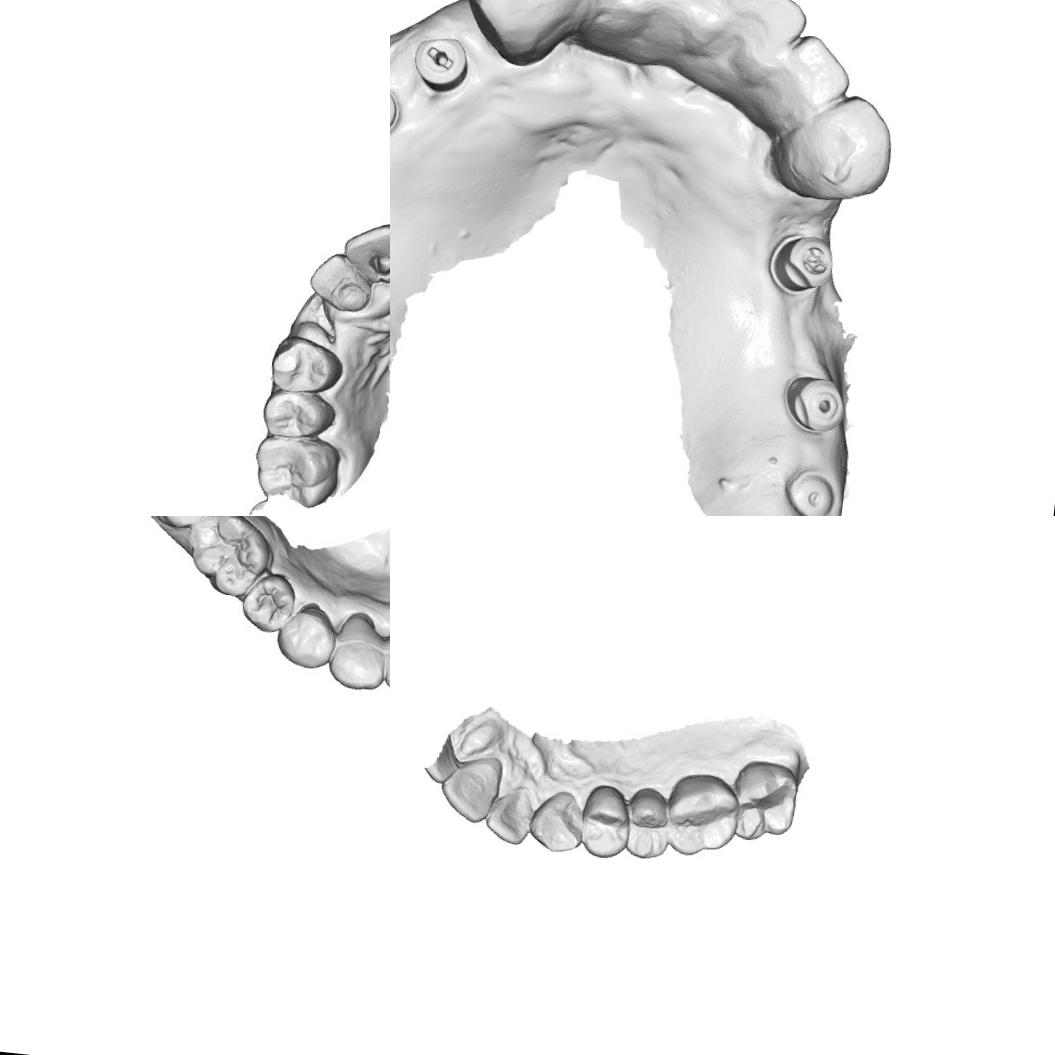canine: (768, 85, 898, 207), (459, 0, 576, 59), (326, 611, 390, 694), (526, 787, 584, 858)
implant: (766, 227, 839, 300), (780, 371, 850, 438), (785, 464, 839, 516)
implant_minus: (408, 32, 473, 94)
incisor: (769, 27, 859, 119), (714, 0, 812, 53), (438, 762, 500, 827), (557, 0, 647, 43), (478, 784, 535, 850), (311, 253, 365, 312), (346, 223, 390, 284), (638, 0, 740, 24), (379, 632, 390, 692)
molar: (184, 516, 280, 600), (660, 770, 739, 865), (724, 756, 802, 848), (254, 432, 338, 507)
premolar: (269, 336, 350, 396), (574, 782, 630, 864), (274, 598, 336, 672), (260, 386, 335, 444), (618, 785, 673, 863), (237, 569, 298, 636)
